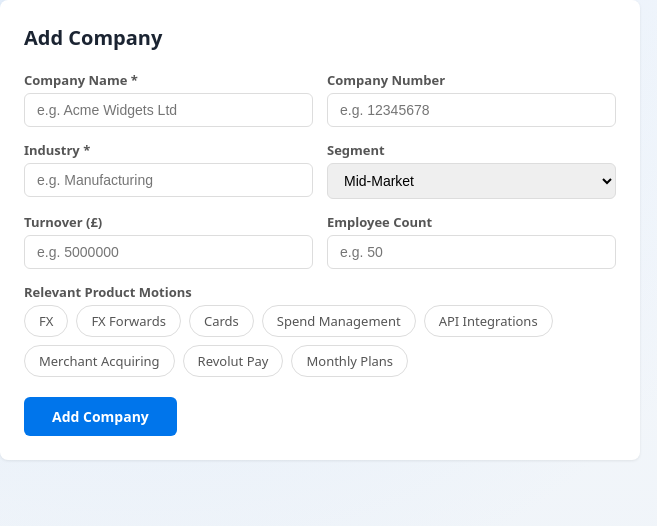
Test: AddCompany › shows validation error when required fields are missing
Click the button "Add Company" at (100, 416), box [24,397,177,436]
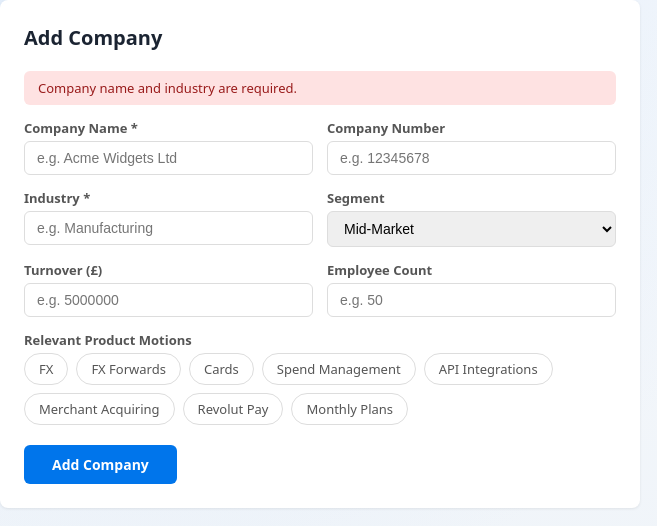
Result: the text "Company name and industry are required." is shown at [24,71,616,105]
